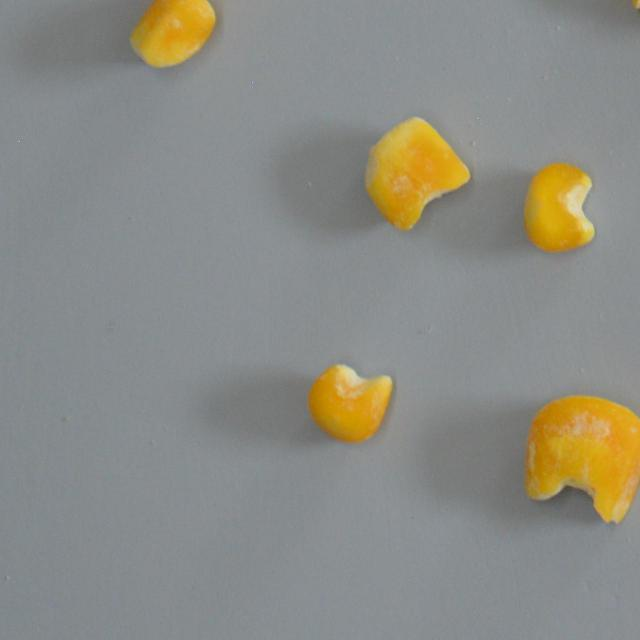dañado: (518, 157, 600, 258), (306, 360, 394, 447), (126, 0, 219, 70)
pelicula: (358, 114, 474, 233)
punto_negro: (520, 390, 640, 530)
